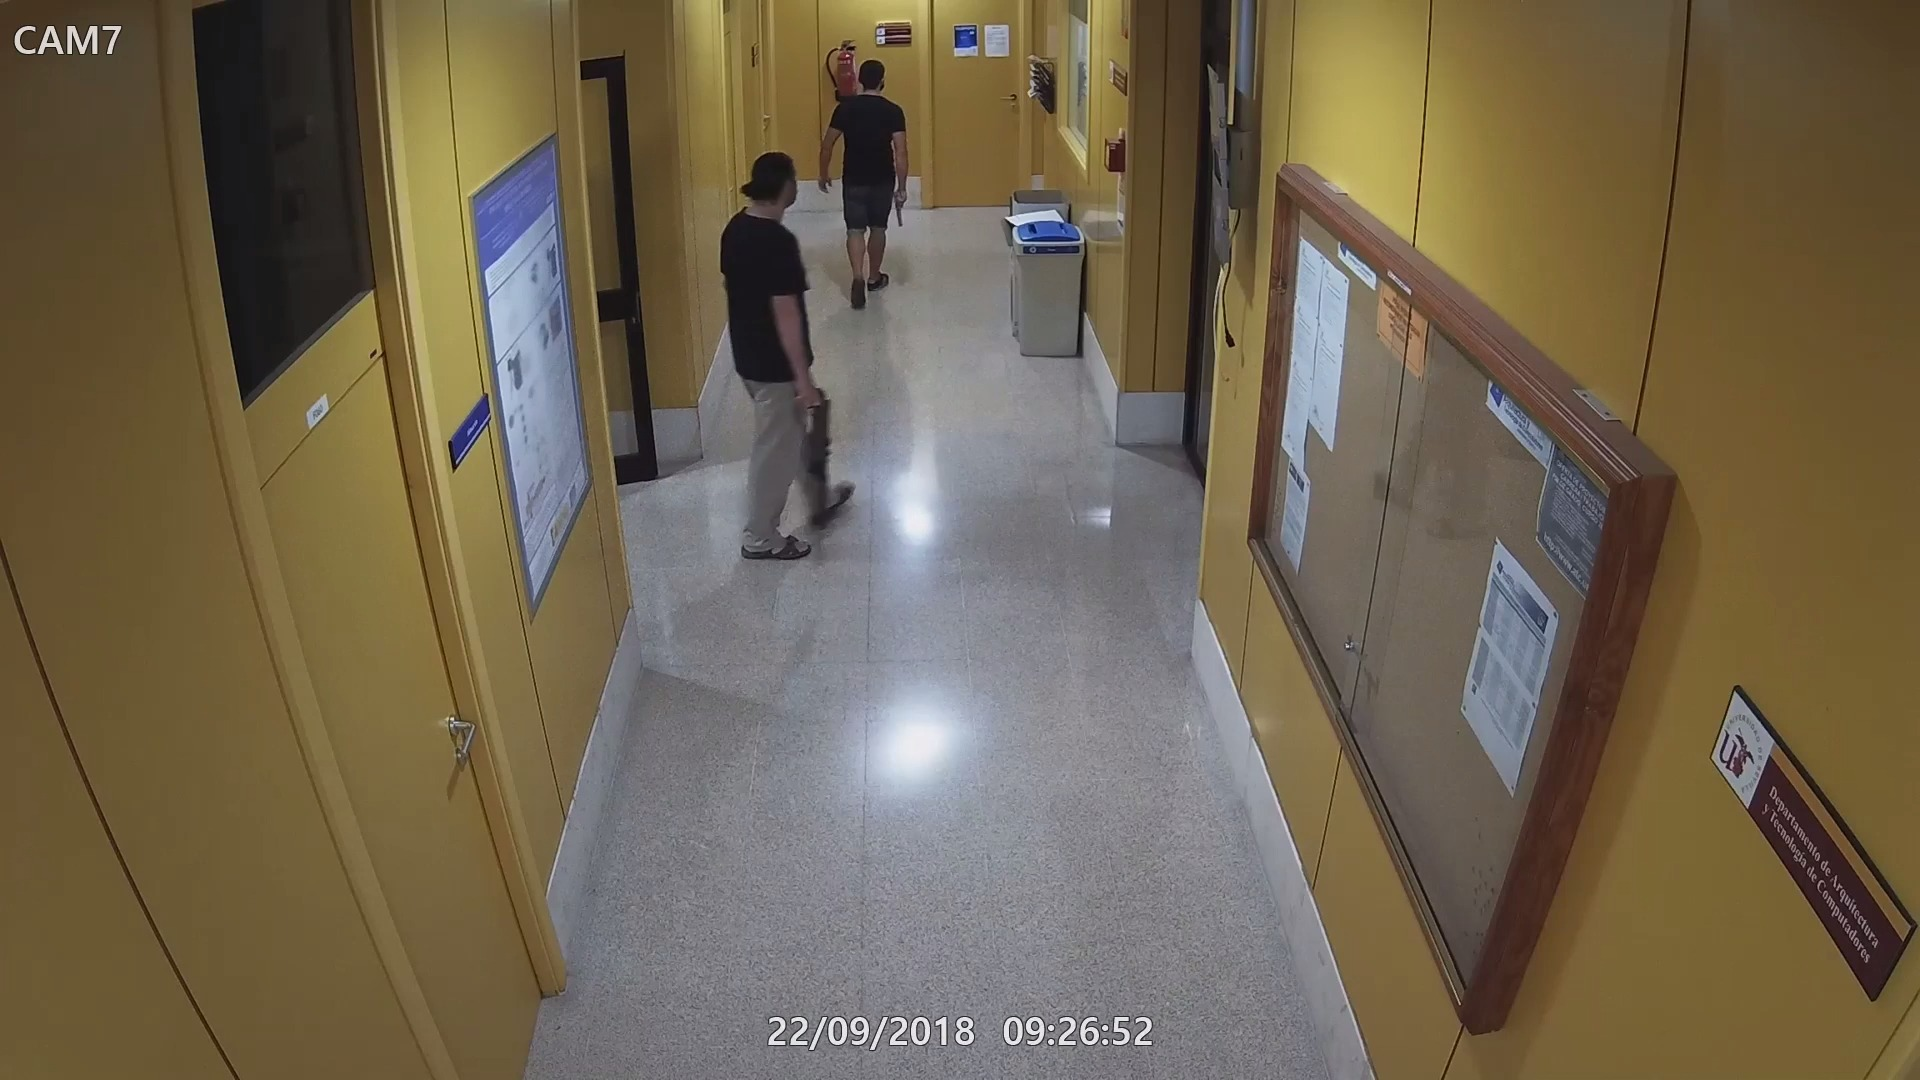Handgun: (885, 189, 913, 227)
Short_rifle: (793, 380, 833, 545)
